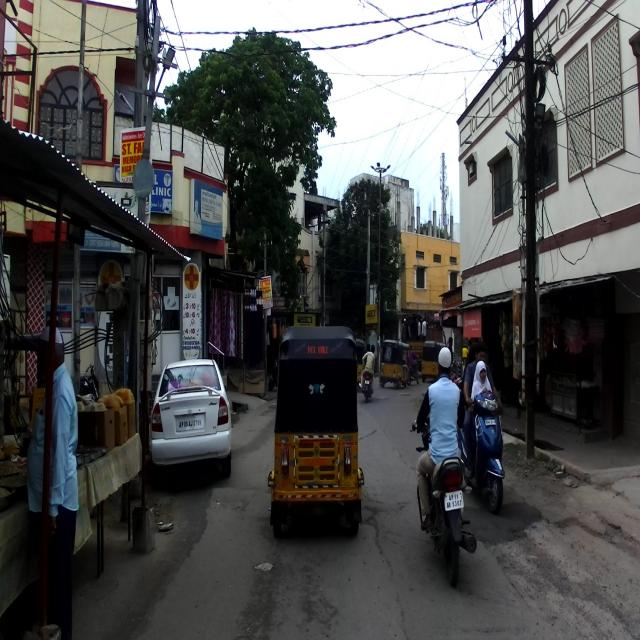Car_Hyundai: (150, 358, 232, 489)
autorickshaw: (267, 325, 363, 541)
motorcycle_Honda: (410, 416, 478, 589)
scooter: (456, 389, 506, 515)
